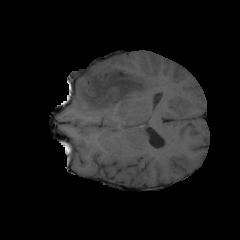glioma: (73, 62, 161, 124)
